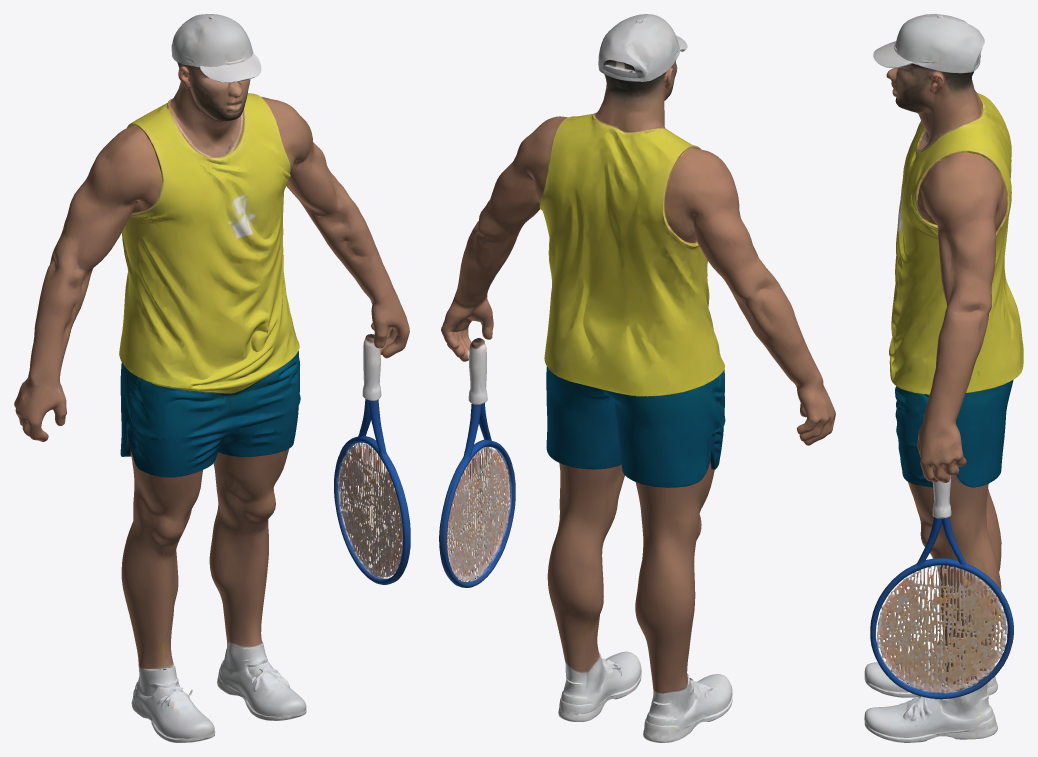
The model's file is rodin-shelton.glb.
The picture shows the model from 3 angles, left to right: view 1: azimuth 30°, elevation 25°; view 2: azimuth 150°, elevation 25°; view 3: azimuth 270°, elevation 25°; orthographic projection.
Parts seen in each view (by area): view 1: model; view 2: model; view 3: model.
Boxes of the visible parts, bbox=[...] form: model: bbox=[14, 14, 410, 742]; model: bbox=[439, 14, 835, 742]; model: bbox=[864, 14, 1023, 742].
Bounding box in the file's own units: 1.11 × 1.9 × 0.3943.
1 material, 1 textured.
